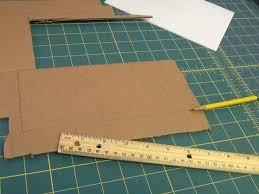Cardboard: (0, 0, 236, 151)
